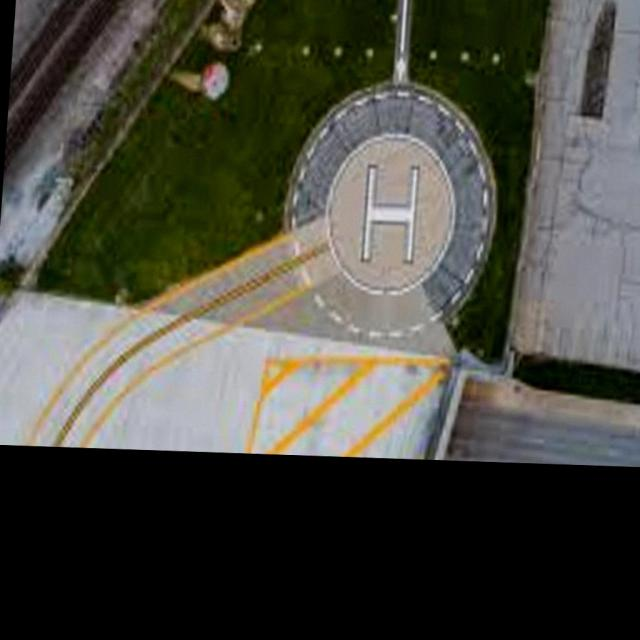helipad: (320, 128, 459, 300)
